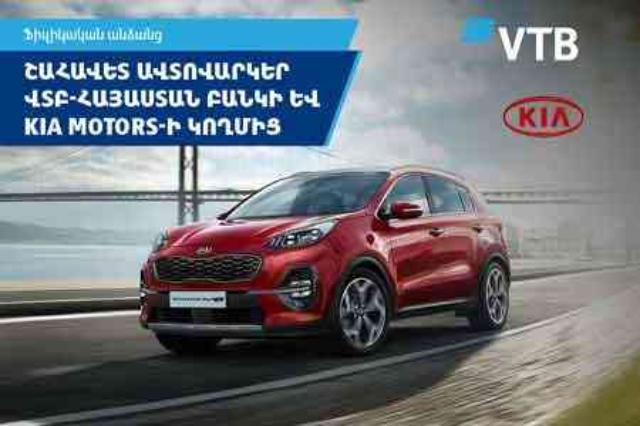kia: (138, 165, 512, 357)
